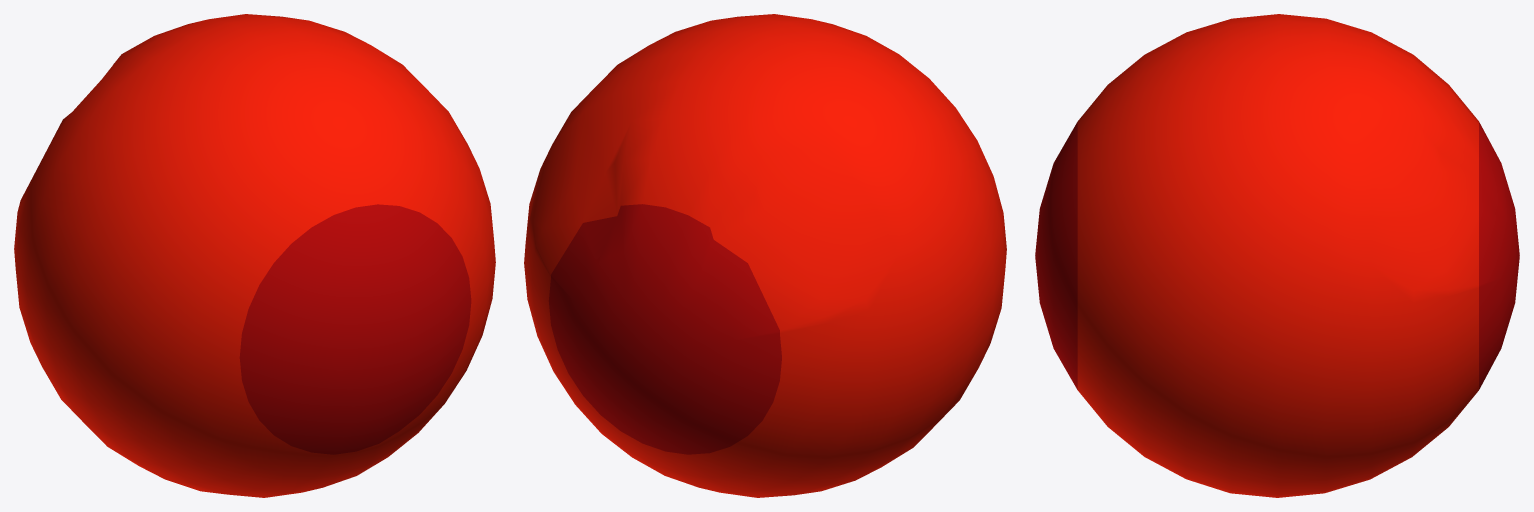
Rendered from ojo.fbx.
The picture shows the model from 3 angles, left to right: view 1: azimuth 30°, elevation 25°; view 2: azimuth 150°, elevation 25°; view 3: azimuth 270°, elevation 25°; orthographic projection.
Parts seen in each view (by area): view 1: Sphere001; view 2: Sphere001; view 3: Sphere001.
Boxes of the visible parts, x1=… form: Sphere001: x1=14, y1=14, x2=495, y2=497; Sphere001: x1=524, y1=14, x2=1006, y2=497; Sphere001: x1=1035, y1=14, x2=1519, y2=497.
Size of the model in its own units: 93.18 by 93.4 by 93.42.
